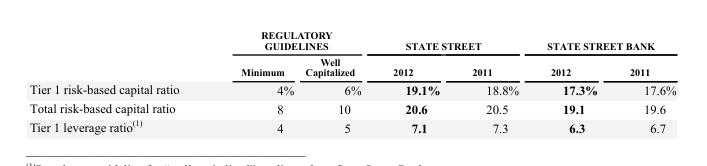table: (28, 29, 675, 134)
table column: (28, 29, 209, 134), (209, 29, 298, 134), (532, 29, 612, 134), (376, 29, 455, 134), (298, 29, 376, 134), (455, 29, 532, 134), (612, 29, 675, 134)
table column header: (28, 29, 675, 79)
table row: (28, 53, 675, 79), (28, 29, 675, 53), (28, 79, 675, 98), (28, 98, 675, 116), (28, 116, 675, 134)
table spanning cell: (209, 29, 376, 53), (376, 29, 532, 53), (532, 29, 675, 53)
